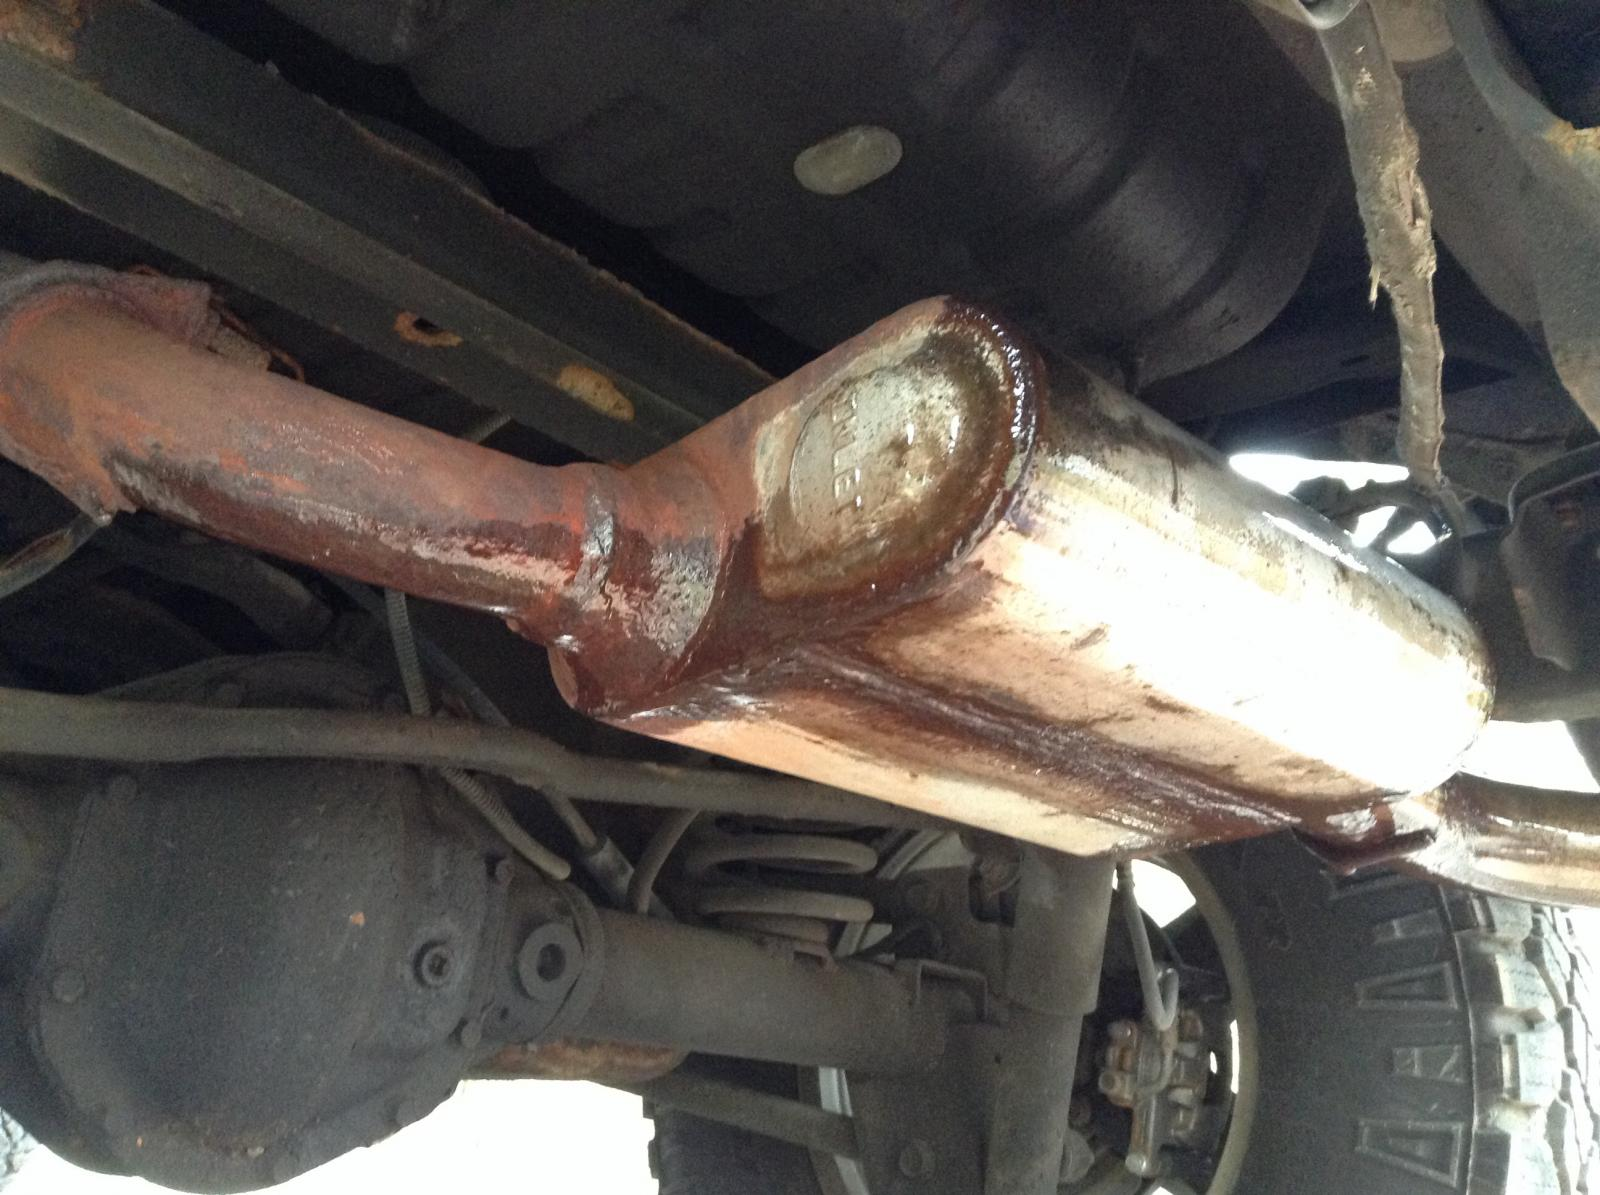Low: (3, 269, 1038, 707), (700, 533, 1380, 852)
